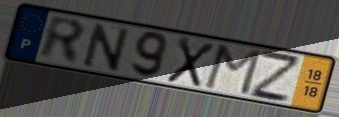9: (128, 31, 170, 80)
M: (201, 43, 264, 98)
N: (81, 20, 132, 74)
R: (37, 13, 87, 67)
X: (164, 34, 218, 89)
Z: (247, 48, 301, 105)
